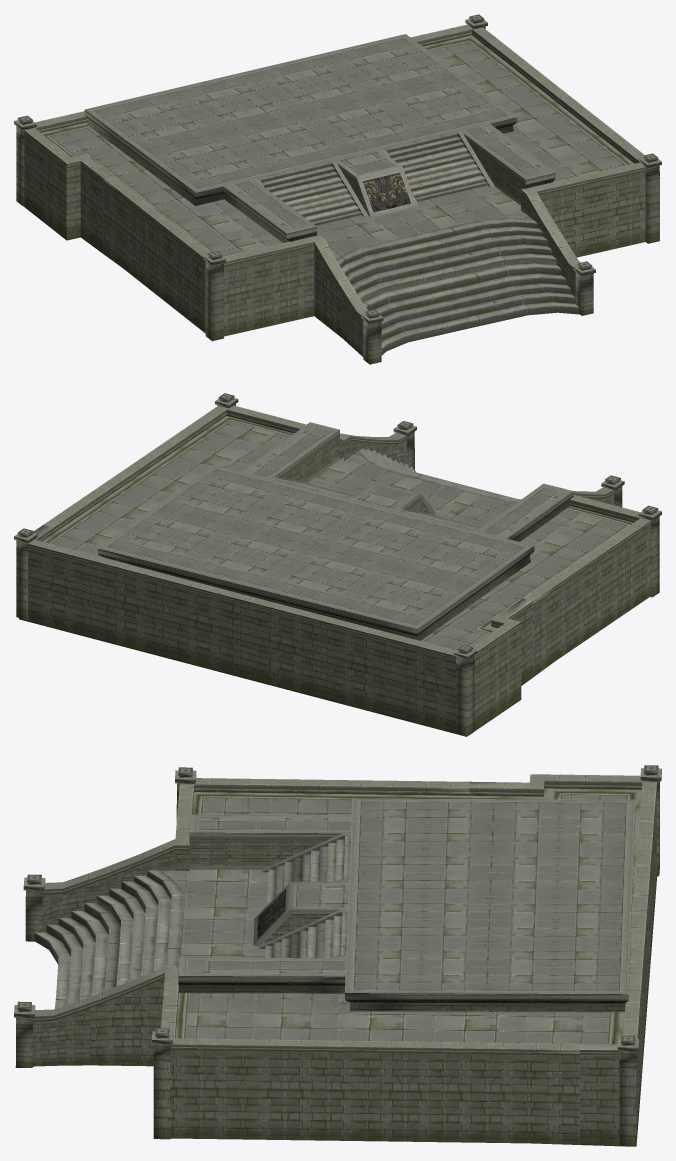
The model's file is Yland3_tzi_04 Yland3.FBX.
The picture shows the model from 3 angles, top to bottom: view 1: azimuth 30°, elevation 25°; view 2: azimuth 150°, elevation 25°; view 3: azimuth 270°, elevation 25°; orthographic projection. The views are drawn at different scales.
Parts seen in each view (by area): view 1: Yland3_tzi_04 Yland3; view 2: Yland3_tzi_04 Yland3; view 3: Yland3_tzi_04 Yland3.
Boxes of the visible parts, x1=… form: Yland3_tzi_04 Yland3: x1=14, y1=14, x2=661, y2=364; Yland3_tzi_04 Yland3: x1=14, y1=393, x2=661, y2=736; Yland3_tzi_04 Yland3: x1=14, y1=765, x2=661, y2=1146.
Size of the model in its own units: 20.85 by 3.8 by 20.44.
